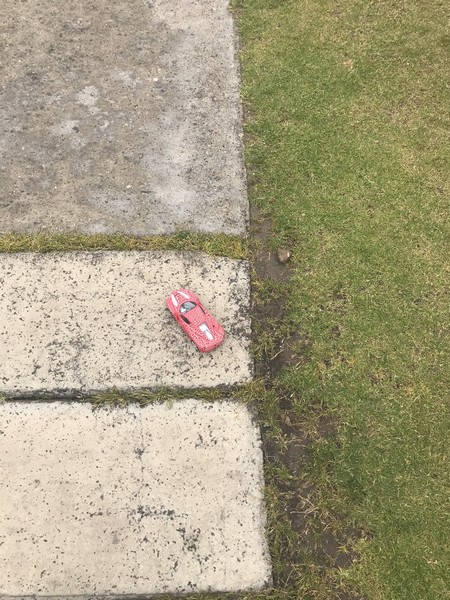RC: (166, 288, 226, 354)
